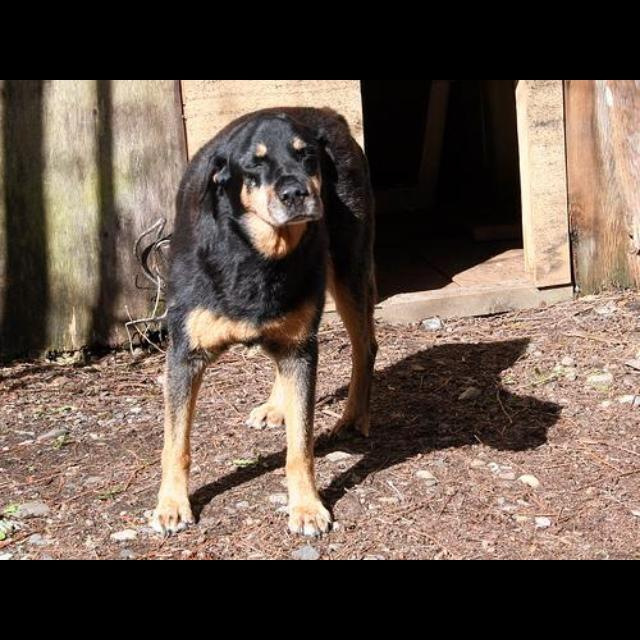rottweiler: (151, 106, 380, 539)
